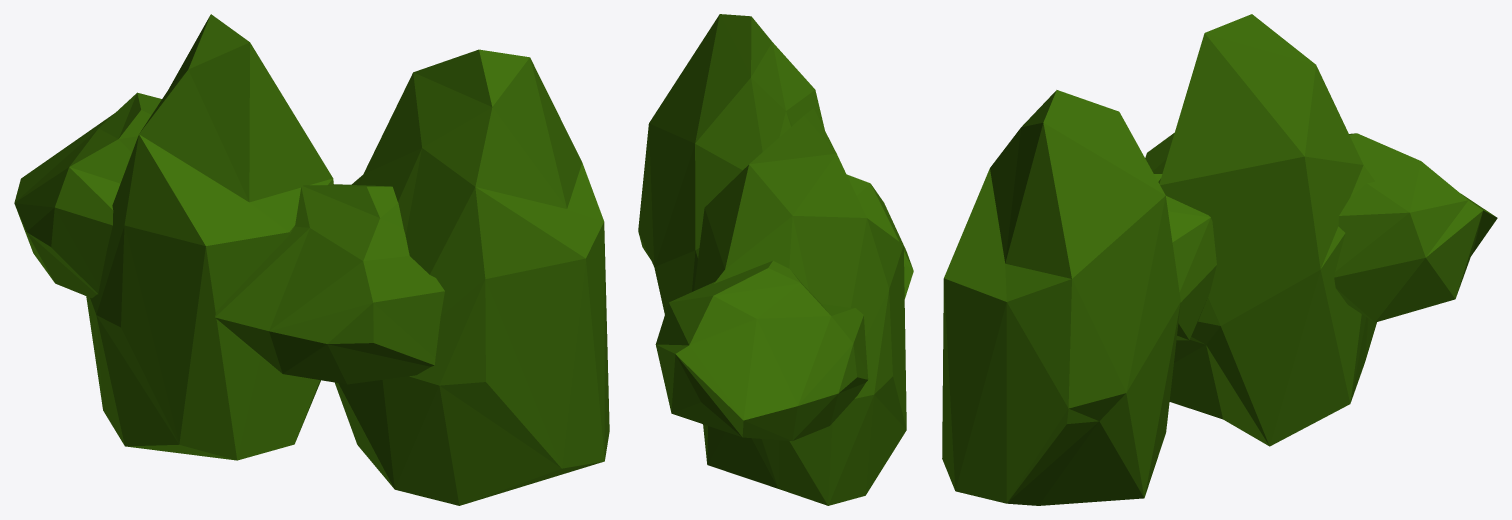
Rendered from bush_1.FBX.
3 views of the same model, side by side, from view 1: azimuth 30°, elevation 25°; view 2: azimuth 150°, elevation 25°; view 3: azimuth 270°, elevation 25° (orthographic). The views are drawn at different scales.
Visible parts, largest first — view 1: bush_1; view 2: bush_1; view 3: bush_1.
Part boxes in pixels (box(x1,y1,x2,y2)): bush_1: box(14, 14, 609, 505); bush_1: box(638, 14, 913, 505); bush_1: box(942, 14, 1497, 505).
Bounding box in the file's own units: 927 × 947 × 1173.
